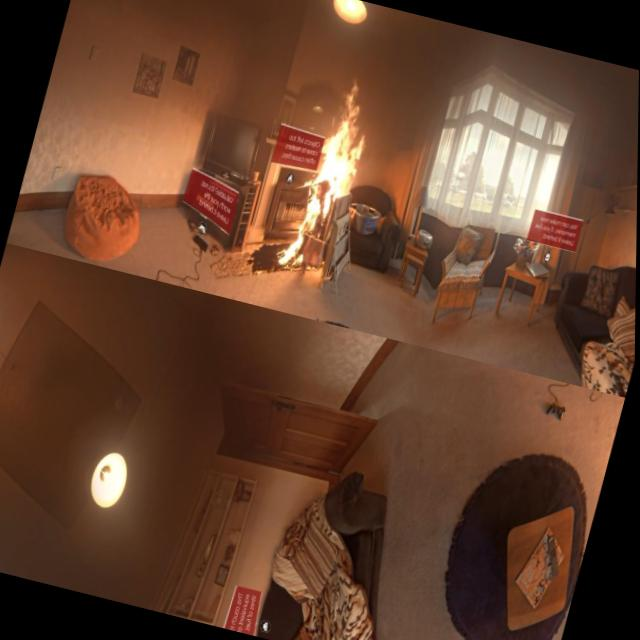fire: (274, 76, 382, 285)
